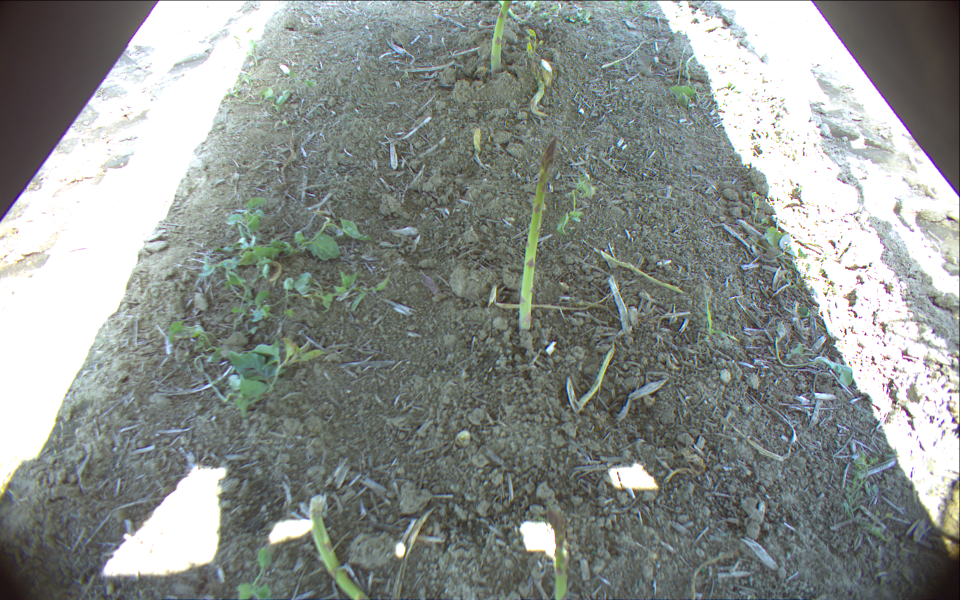aspa: (517, 137, 558, 330), (310, 493, 371, 600), (599, 248, 683, 297), (550, 506, 570, 600), (491, 1, 511, 76), (530, 58, 545, 116), (685, 50, 700, 90), (473, 126, 482, 156)
